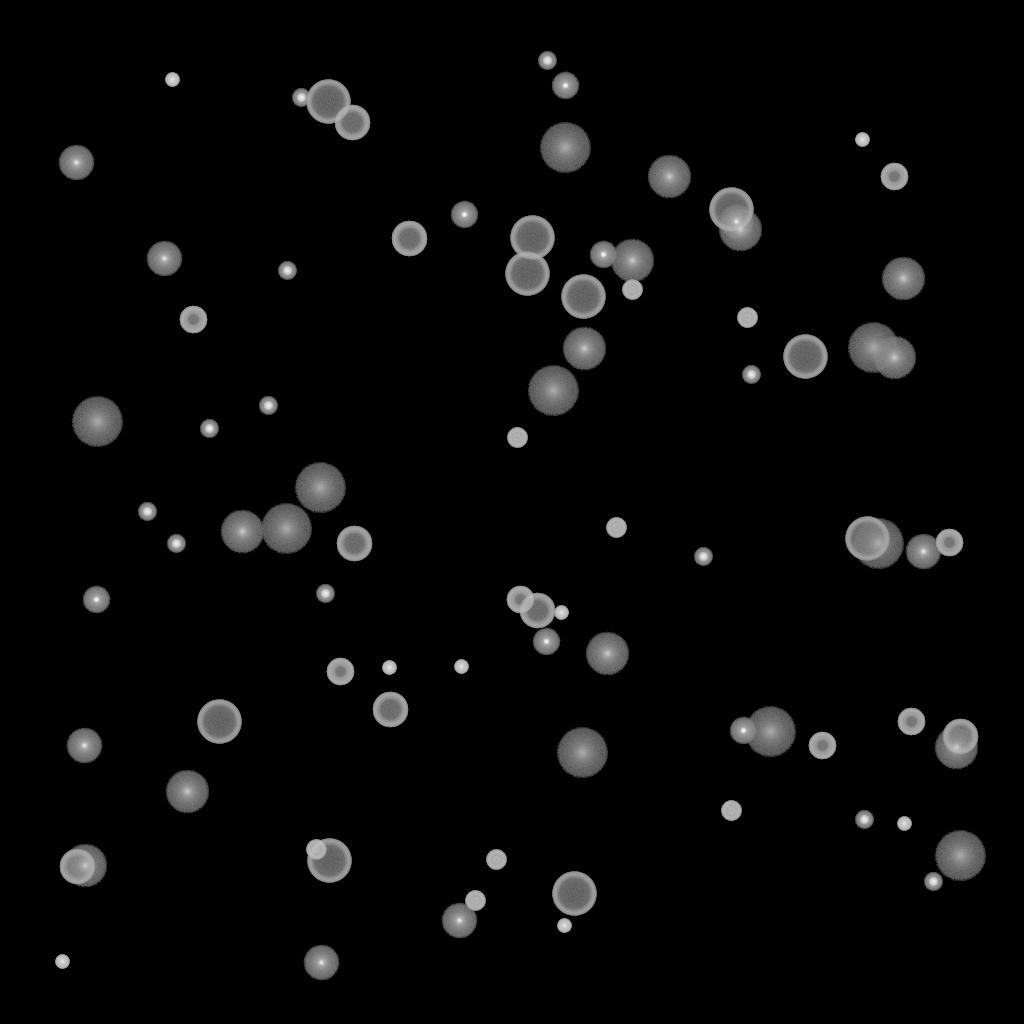depth:-10: (589, 241, 617, 269), (551, 72, 579, 100), (82, 586, 110, 614), (450, 201, 478, 229), (532, 628, 560, 656), (729, 717, 757, 745)
depth:-20: (167, 535, 185, 553), (694, 548, 712, 566), (138, 503, 156, 521), (278, 262, 296, 280), (316, 585, 334, 603), (259, 397, 277, 415), (538, 52, 556, 70), (855, 811, 873, 829), (200, 420, 218, 438), (924, 873, 942, 891), (742, 366, 760, 384), (292, 89, 310, 107)
depth:-30: (454, 660, 468, 674), (55, 955, 69, 969), (165, 73, 179, 87), (557, 919, 571, 933), (897, 817, 911, 831), (855, 133, 869, 147), (554, 606, 568, 620), (382, 661, 396, 675)
depth:-40: (721, 801, 741, 821), (306, 840, 326, 860), (465, 891, 485, 911), (737, 308, 757, 328), (622, 280, 642, 300), (507, 428, 527, 448), (606, 518, 626, 538), (486, 850, 506, 870)
depth:-50: (179, 306, 207, 334), (808, 732, 836, 760), (935, 529, 963, 557), (897, 708, 925, 736), (506, 586, 534, 614), (880, 163, 908, 191), (326, 658, 354, 686)
depth:-60: (519, 593, 555, 629), (942, 719, 978, 755), (336, 526, 372, 562), (391, 221, 427, 257), (334, 105, 370, 141), (372, 692, 408, 728), (59, 849, 95, 885)
depth:-70: (197, 700, 241, 744), (552, 872, 596, 916), (307, 839, 351, 883), (510, 216, 554, 260), (845, 517, 889, 561), (505, 252, 549, 296), (306, 80, 350, 124), (783, 335, 827, 379), (561, 275, 605, 319), (709, 188, 753, 232)
depth:0: (441, 903, 477, 939), (66, 728, 102, 764), (303, 945, 339, 981), (58, 145, 94, 181), (146, 241, 182, 277), (718, 204, 754, 240), (905, 534, 941, 570)
depth:10: (872, 336, 916, 380), (934, 726, 978, 770), (881, 257, 925, 301), (165, 770, 209, 814), (610, 239, 654, 283), (63, 844, 107, 888), (585, 632, 629, 676), (562, 327, 606, 371), (718, 208, 762, 252), (220, 510, 264, 554), (647, 155, 691, 199)
depth:20: (539, 123, 591, 173), (934, 831, 986, 881), (527, 366, 579, 416), (71, 397, 123, 447), (294, 463, 346, 513), (852, 519, 904, 569), (260, 504, 312, 554), (556, 728, 608, 778), (744, 707, 796, 757), (847, 323, 899, 373)
